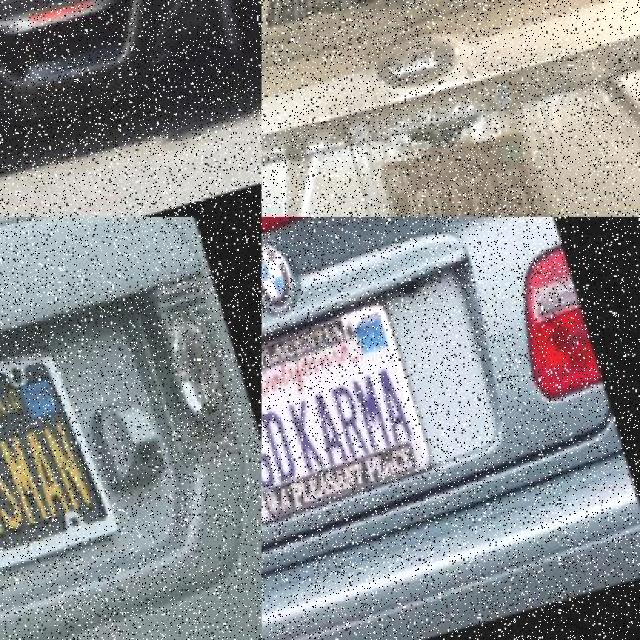licenseplate: (261, 303, 434, 519), (0, 343, 126, 594), (375, 131, 540, 217)
